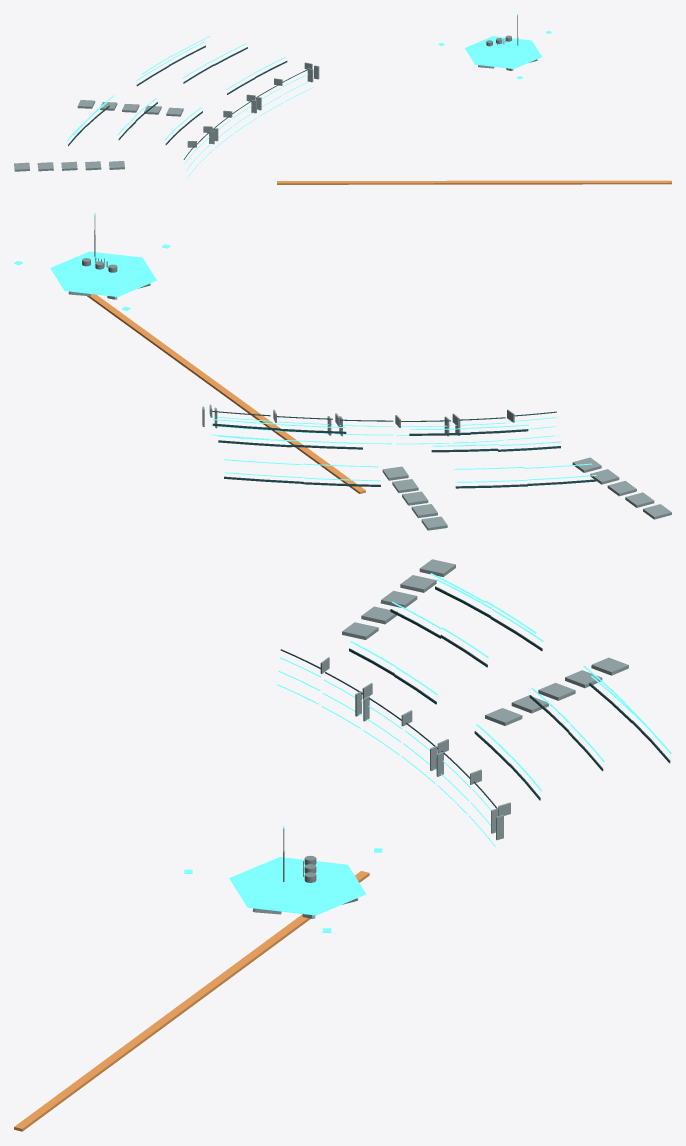
Rendered from Weather_Lung_Sector_04_Dressing.glb.
3 views of the same model, one above another, from view 1: azimuth 30°, elevation 25°; view 2: azimuth 150°, elevation 25°; view 3: azimuth 270°, elevation 25° (orthographic). The views are drawn at different scales.
Visible parts, largest first — view 1: Weather_Lung_Sector_04_Dressing; view 2: Weather_Lung_Sector_04_Dressing; view 3: Weather_Lung_Sector_04_Dressing.
Boxes of the visible parts, bbox=[...] form: Weather_Lung_Sector_04_Dressing: bbox=[14, 14, 671, 184]; Weather_Lung_Sector_04_Dressing: bbox=[14, 213, 671, 530]; Weather_Lung_Sector_04_Dressing: bbox=[14, 559, 671, 1131].
Bounding box in the file's own units: 10268 × 2414 × 6111.
